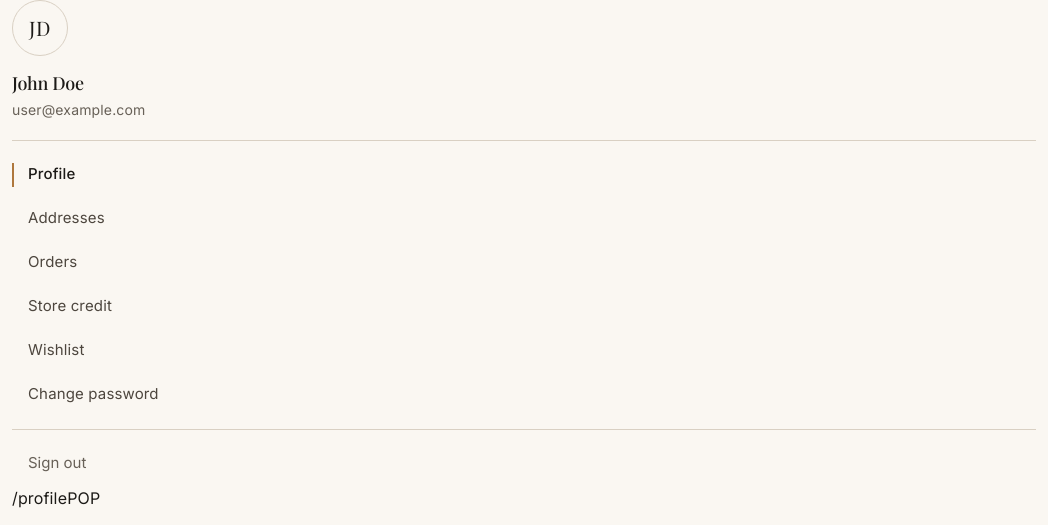
Test: a link to another page adds a history entry
This screenshot has width=1048, height=525.
Click the link "Orders": (53, 262) [28, 252, 77, 271]
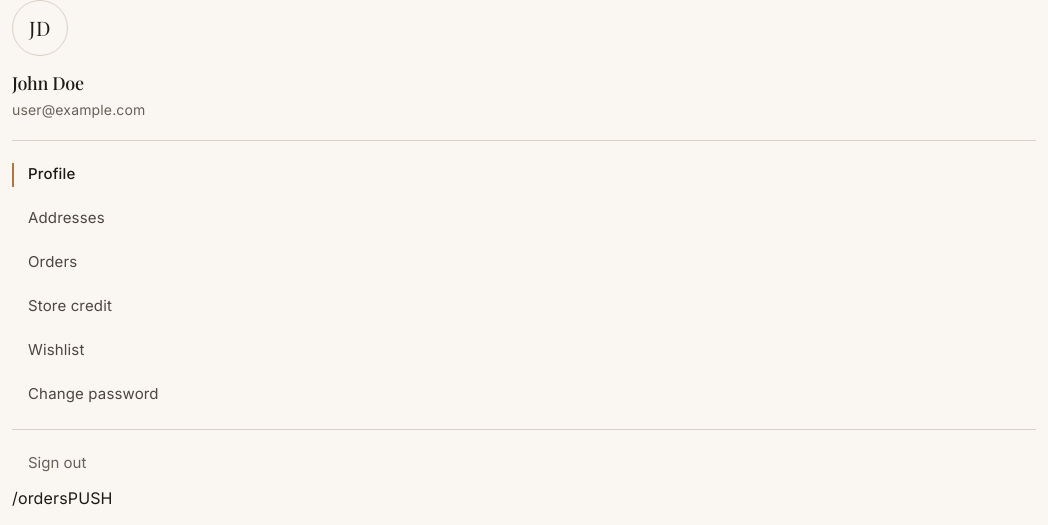
Expected: the text with test id "location" reads "/orders", [12, 488, 68, 508]
Expected: the text with test id "navigation" reads "PUSH", [68, 488, 113, 508]
